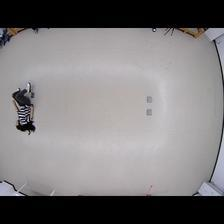fall: (11, 82, 36, 135)
